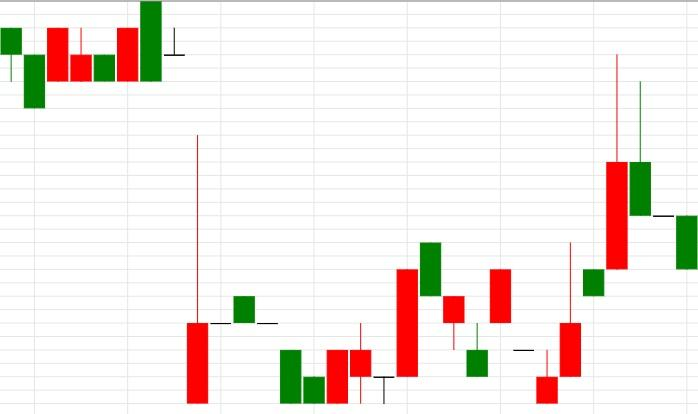bearish_engulfing_fall: (24, 0, 163, 109)
bullish_engulfing_rise: (232, 295, 349, 404)
inverse_hammer_rise: (140, 0, 209, 405)
